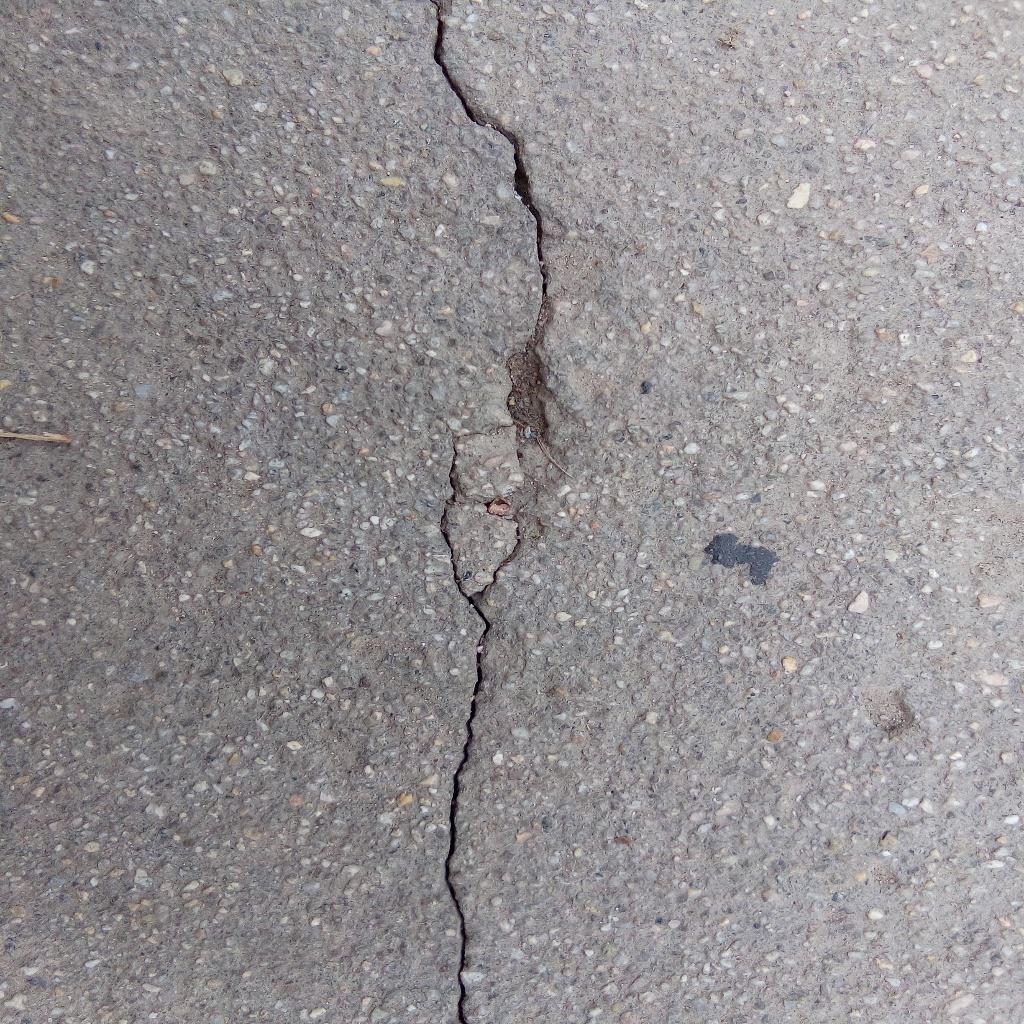Crack: (430, 1, 564, 1024)
